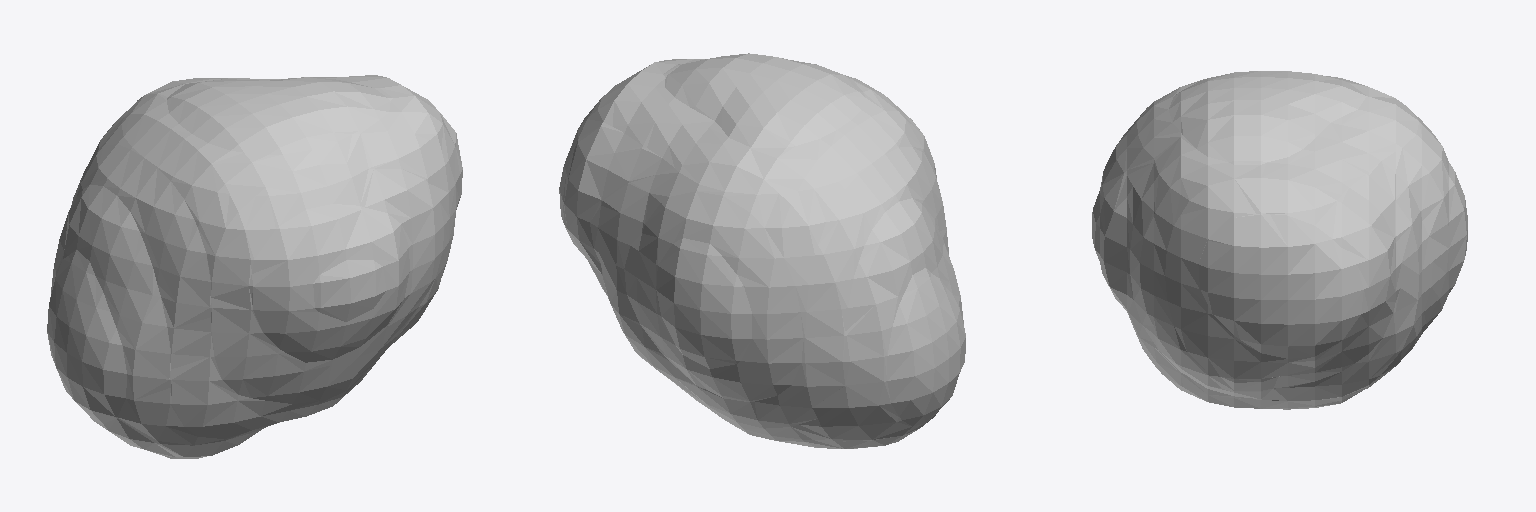
File: 4rhn_1_cms.obj
3 views of the same model, side by side, from view 1: azimuth 30°, elevation 25°; view 2: azimuth 150°, elevation 25°; view 3: azimuth 270°, elevation 25° (orthographic).
Size of the model in its own units: 66.87 by 58.33 by 58.83.